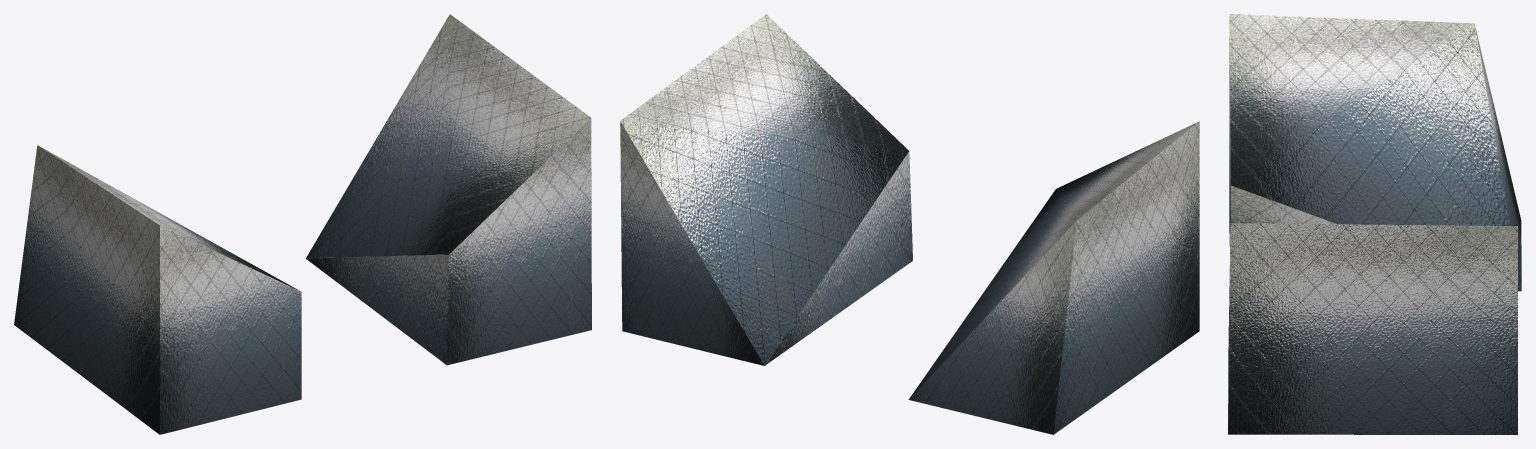
Rendered from techo.obj.
3 views of the same model, side by side, from view 1: azimuth 30°, elevation 25°; view 2: azimuth 150°, elevation 25°; view 3: azimuth 270°, elevation 25° (orthographic).
Parts seen in each view (by area): view 1: pasted__pCube5; view 2: pasted__pCube5; view 3: pasted__pCube5.
Boxes of the visible parts, <box> form: pasted__pCube5: <box>14,14,591,434</box>; pasted__pCube5: <box>620,14,1199,434</box>; pasted__pCube5: <box>1228,14,1521,434</box>.
Bounding box in the file's own units: 24.11 × 11.23 × 14.11.
2 materials, 2 textured.
